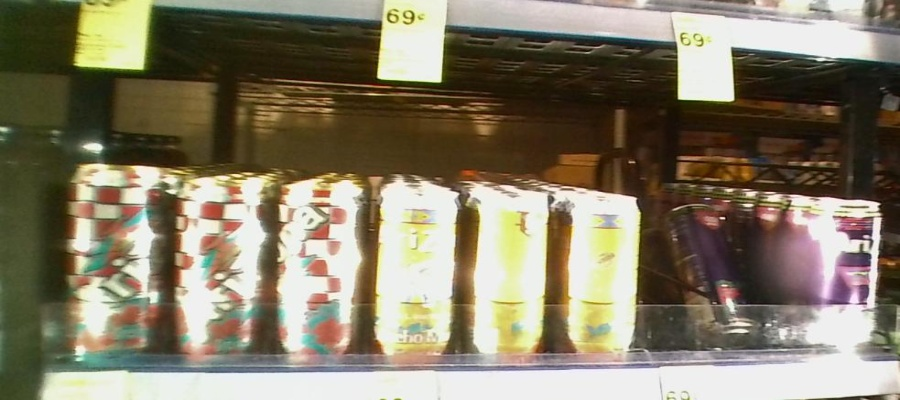bottle: (60, 160, 167, 351), (171, 169, 267, 356), (370, 171, 461, 358), (272, 177, 367, 356), (554, 185, 644, 356), (465, 176, 548, 356), (695, 202, 770, 350), (808, 197, 881, 337)
